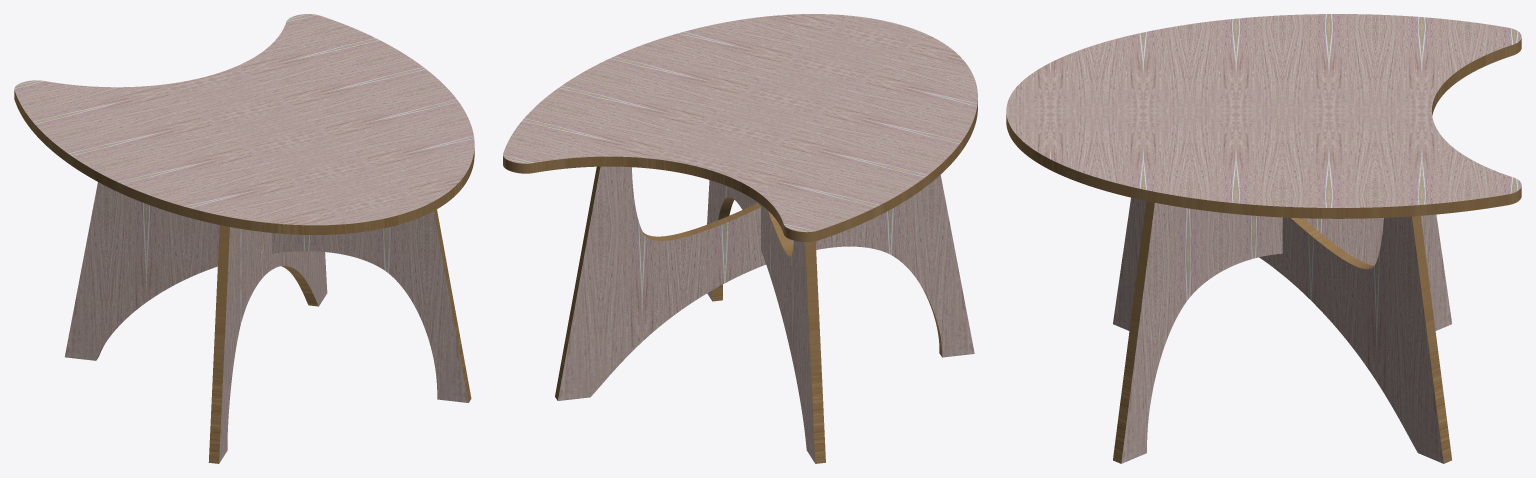
The model's file is NODO_RATONA_CRUZ_PARAISO_V1.glb.
3 renders of one model, left to right at view 1: azimuth 30°, elevation 25°; view 2: azimuth 150°, elevation 25°; view 3: azimuth 270°, elevation 25°, orthographic. The views are drawn at different scales.
Visible parts, largest first — view 1: Tapa, Lateral_2, Lateral_1; view 2: Tapa, Lateral_1, Lateral_2; view 3: Tapa, Lateral_1, Lateral_2.
Part boxes in pixels (x1=…): Tapa: x1=14, y1=14, x2=474, y2=234; Lateral_2: x1=65, y1=182, x2=471, y2=402; Lateral_1: x1=208, y1=225, x2=327, y2=463; Tapa: x1=503, y1=14, x2=977, y2=241; Lateral_1: x1=555, y1=166, x2=974, y2=400; Lateral_2: x1=707, y1=180, x2=825, y2=463; Tapa: x1=1006, y1=14, x2=1521, y2=218; Lateral_1: x1=1113, y1=197, x2=1451, y2=463; Lateral_2: x1=1113, y1=201, x2=1451, y2=463.
Size of the model in its own units: 0.6924 by 0.468 by 0.7771.
2 materials, 2 textured.
